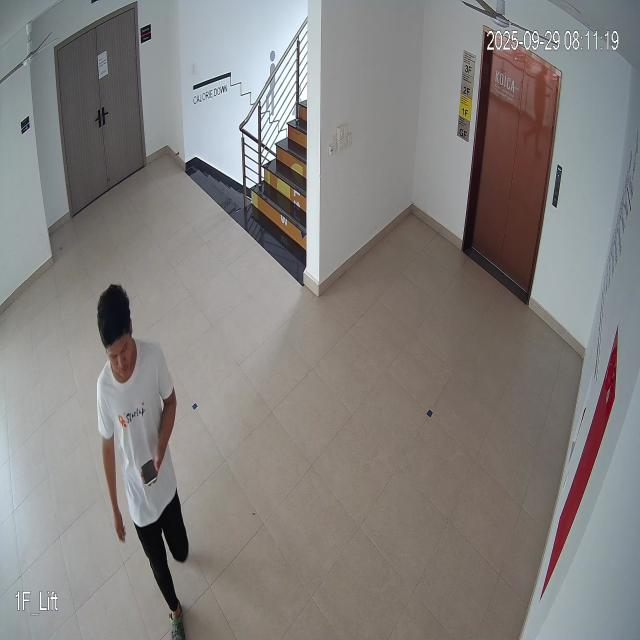face: (94, 278, 136, 385)
